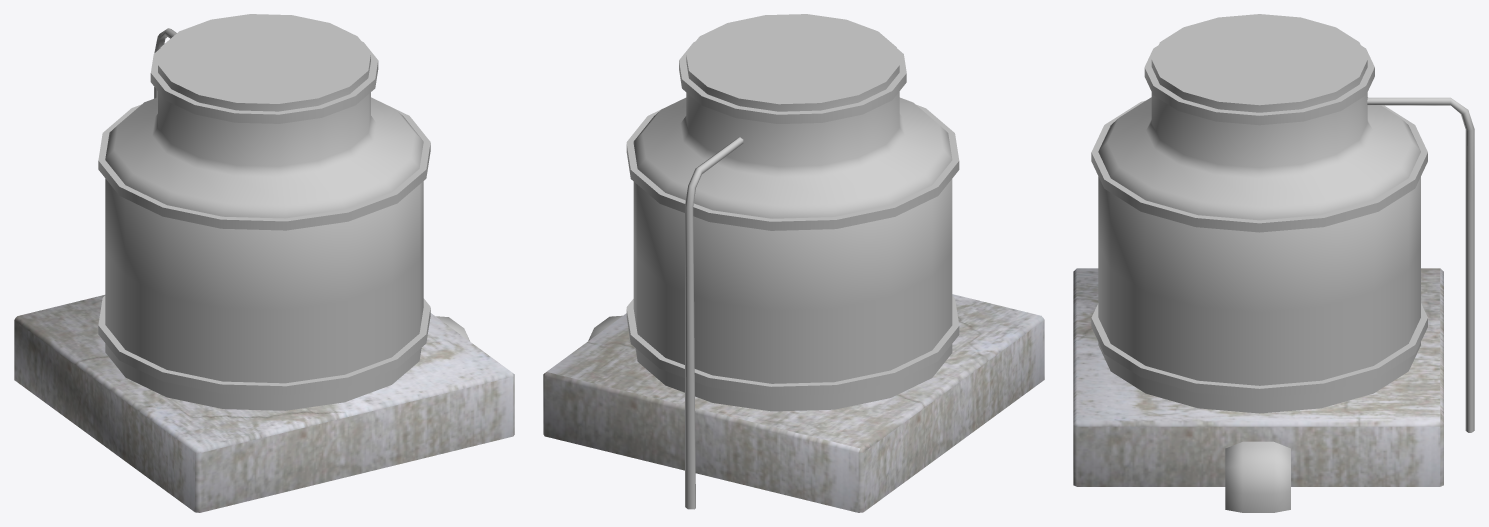
File: mallbil_aircon05.fbx
The picture shows the model from 3 angles, left to right: view 1: azimuth 30°, elevation 25°; view 2: azimuth 150°, elevation 25°; view 3: azimuth 270°, elevation 25°; orthographic projection.
Parts seen in each view (by area): view 1: mallbil_aircon05; view 2: mallbil_aircon05; view 3: mallbil_aircon05.
Part boxes in pixels (x1,y1,x2,y2): mallbil_aircon05: [14, 14, 514, 512]; mallbil_aircon05: [543, 14, 1044, 512]; mallbil_aircon05: [1073, 14, 1474, 512].
Bounding box in the file's own units: 440 × 431 × 421.
